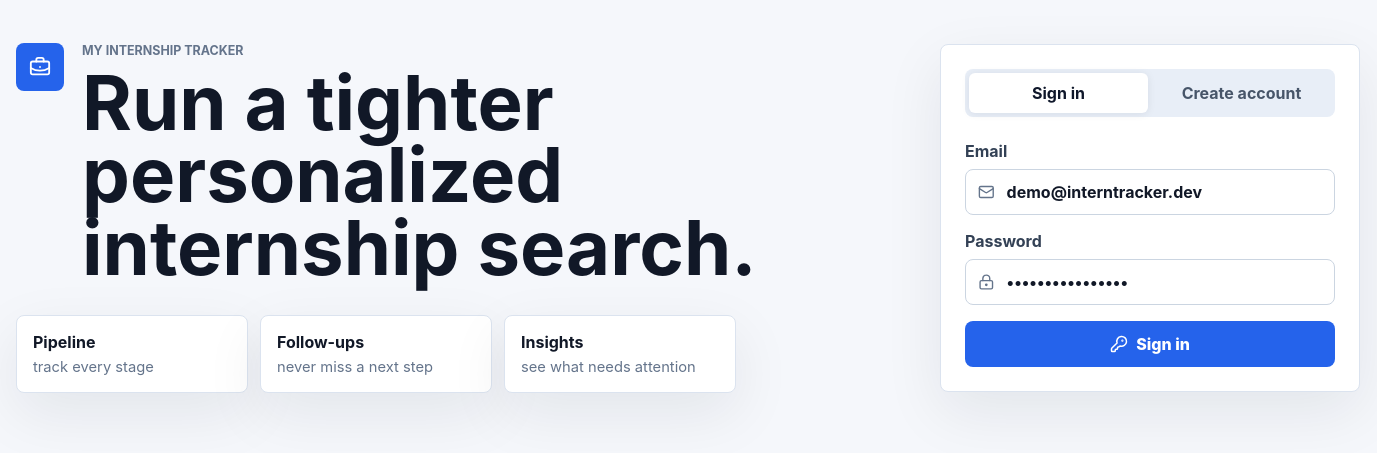
AuthView › shows authentication errors from failed submissions
Click the button "Sign in" below "Password": (1150, 344) [965,321,1335,367]
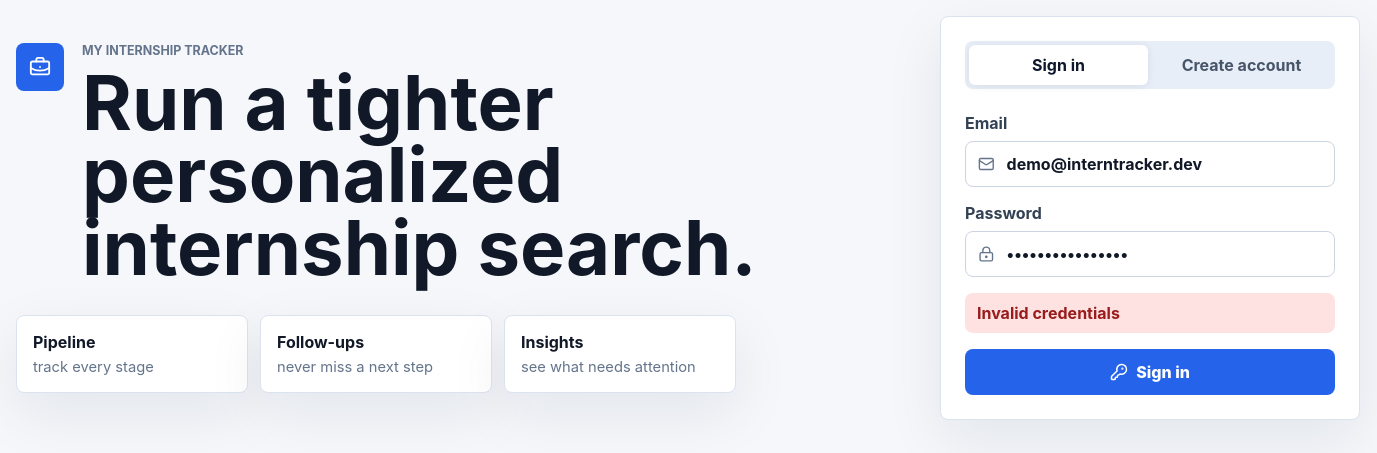
Check: the text "Invalid credentials" is shown, box [965,293,1335,333]
